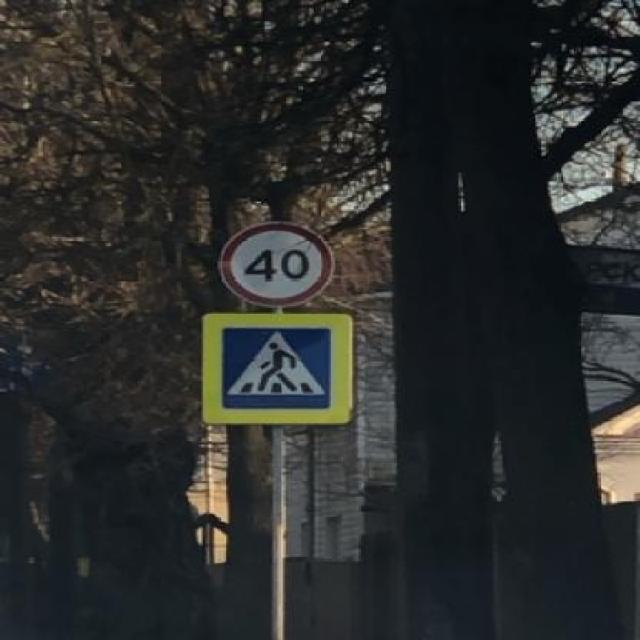forb_speed_over_40: (223, 223, 332, 306)
